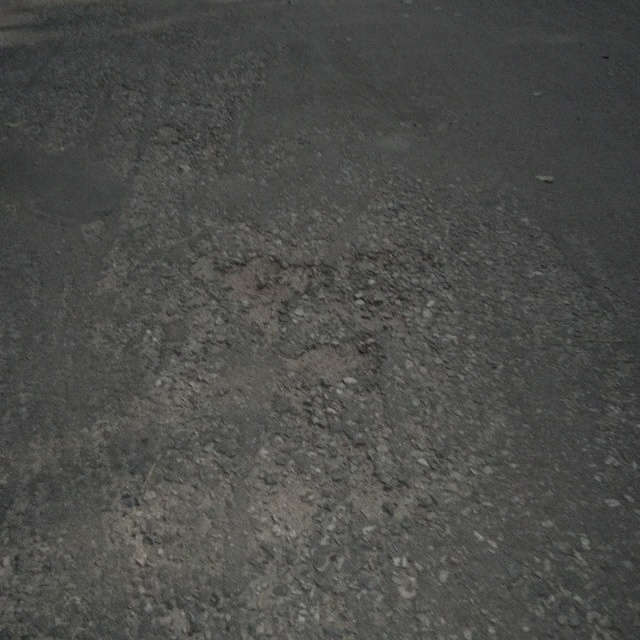pothole: (220, 252, 311, 332), (292, 335, 378, 382)
